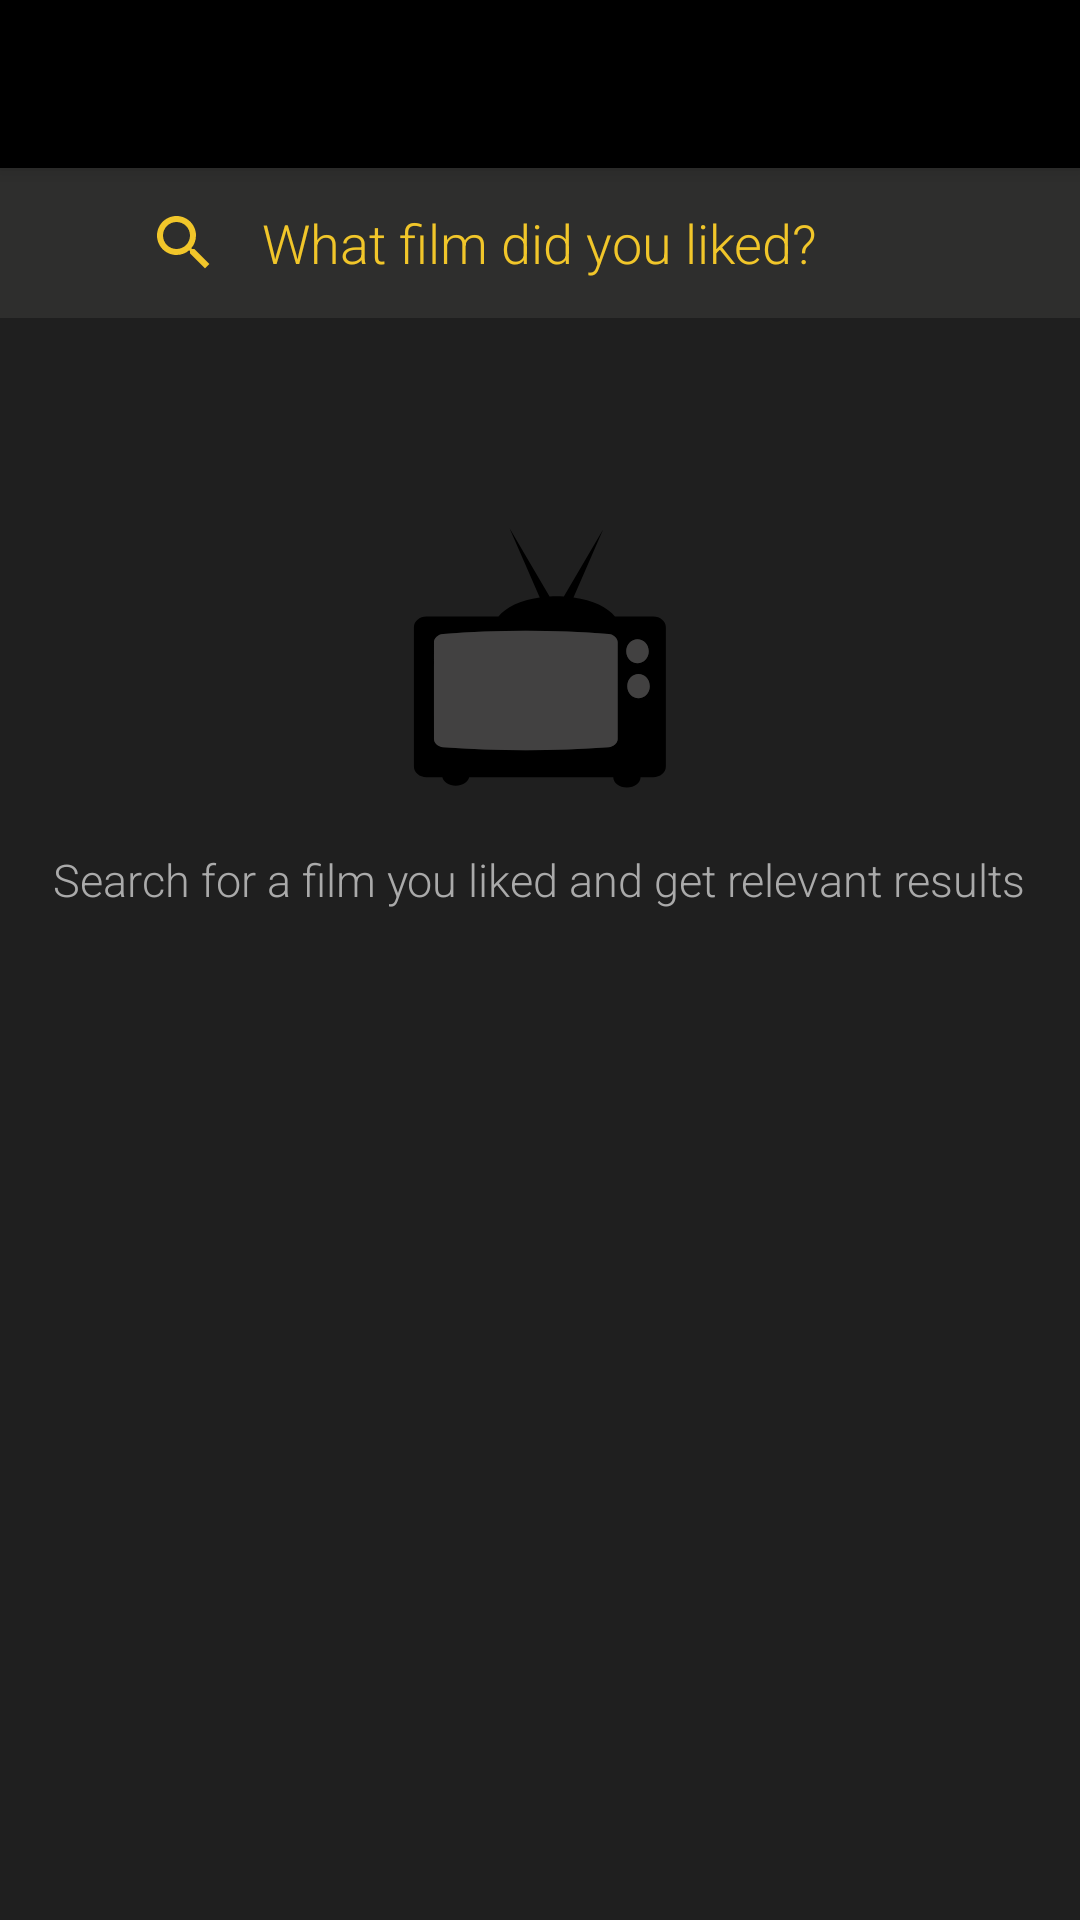

Screen size 1080px x 1920px. Icon name, then its box in pixels as {"left": x1, "top": y1, "right": x2, "bottom": y2}:
search: {"left": 157, "top": 216, "right": 209, "bottom": 268}
